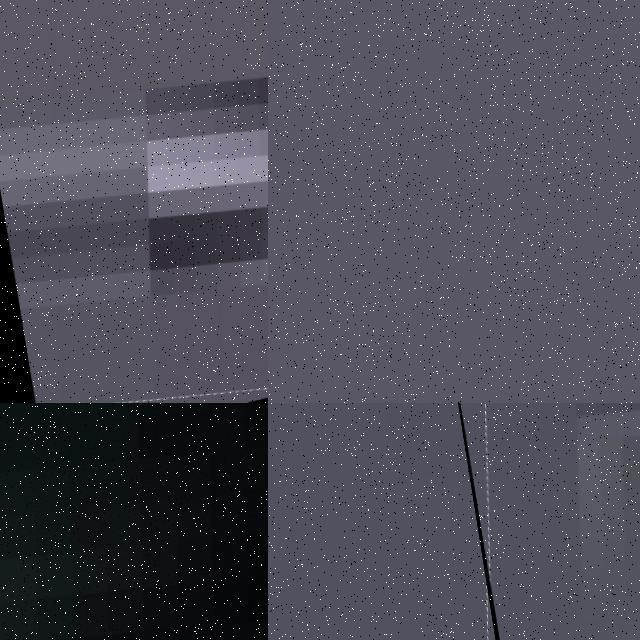0: (0, 0, 268, 403), (417, 403, 640, 640)
drone: (0, 403, 268, 640)
